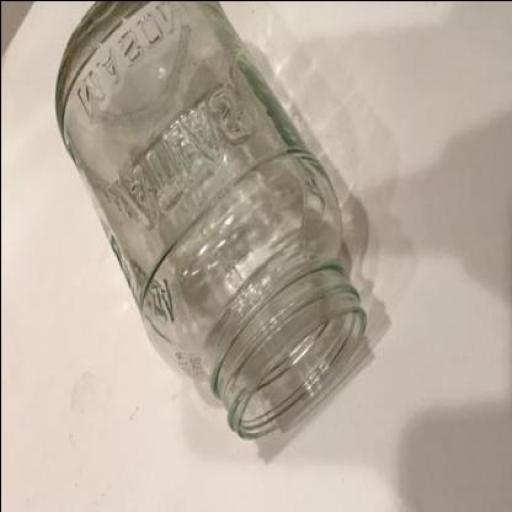glass: (53, 1, 363, 442)
